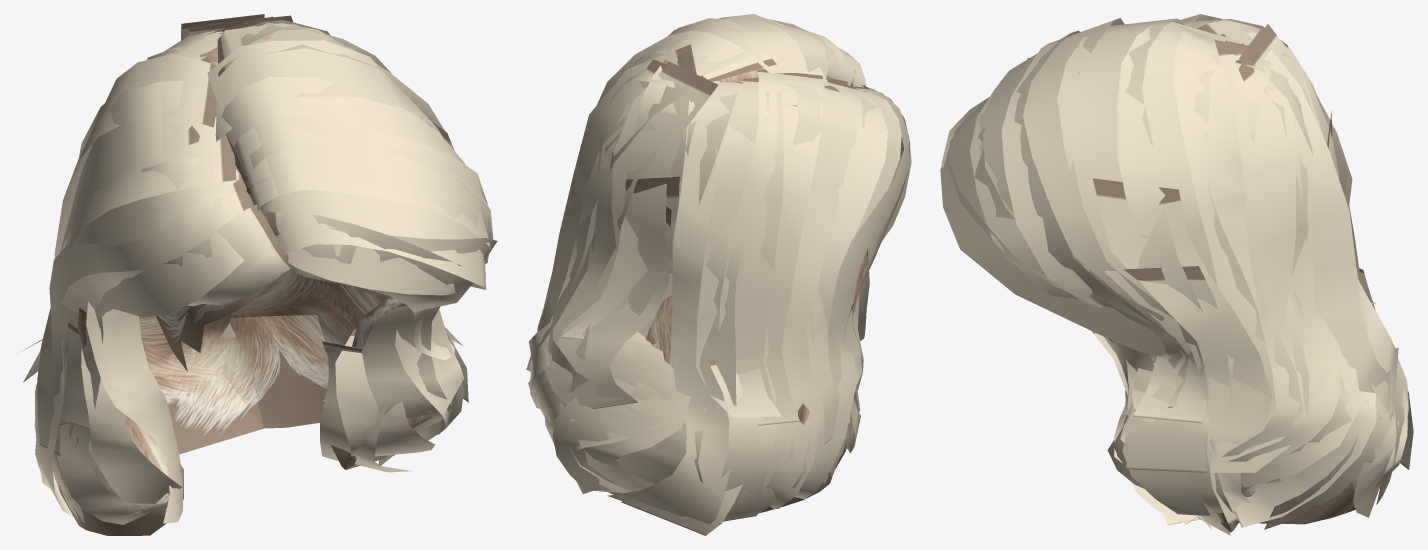
The model's file is hair_006.obj.
The picture shows the model from 3 angles, left to right: view 1: azimuth 30°, elevation 25°; view 2: azimuth 150°, elevation 25°; view 3: azimuth 270°, elevation 25°; orthographic projection. The views are drawn at different scales.
Size of the model in its own units: 22.41 by 28.86 by 26.67.
